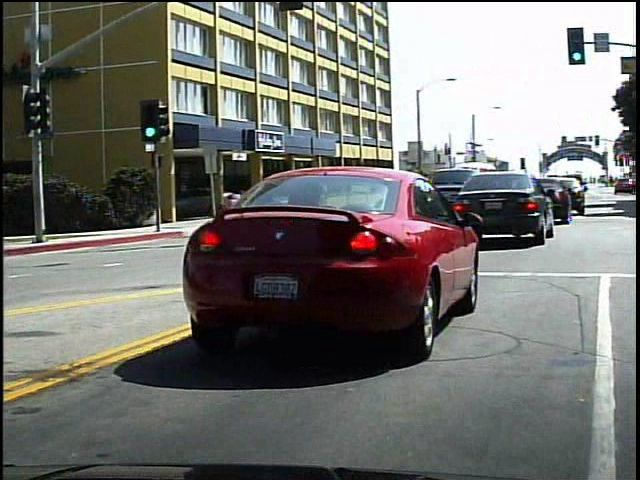person: (272, 181, 291, 218)
